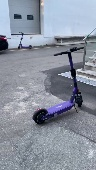beam: (30, 45, 86, 125), (14, 28, 34, 50)
